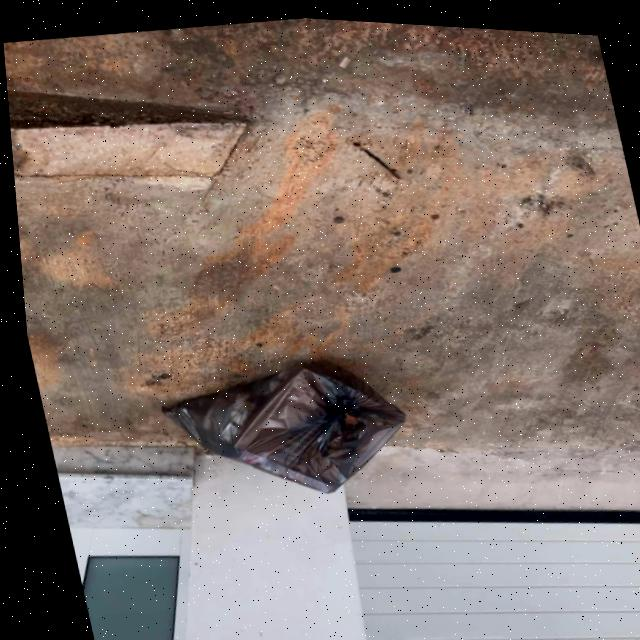Mixed Waste -Black Bag-: (140, 338, 415, 516)
